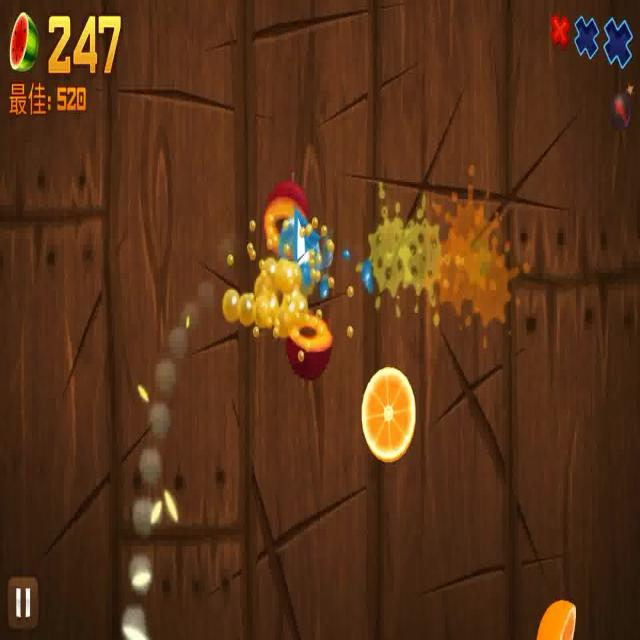fruit: (359, 366, 416, 463), (261, 183, 315, 265), (285, 305, 334, 379), (533, 596, 579, 640)
